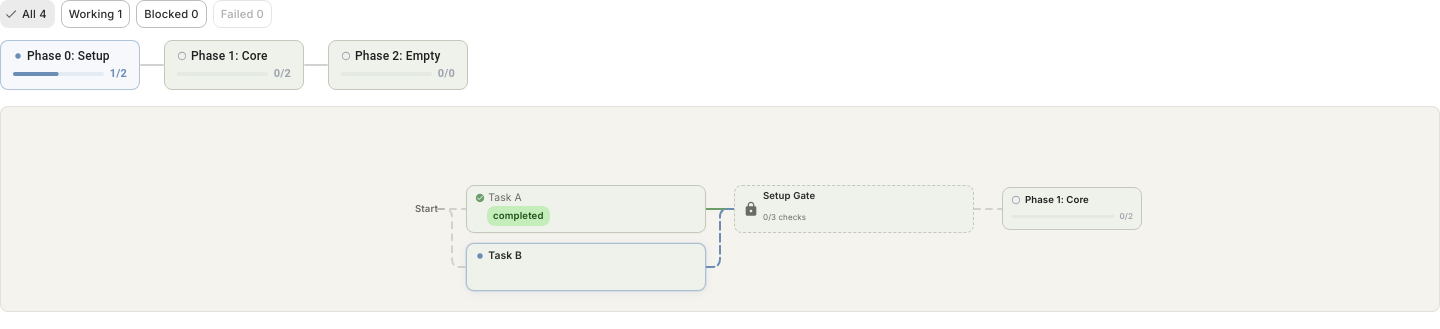
Test case: Pipeline: empty phases › shows "No tasks defined yet" for empty phases when expanded
What coordinates should you click on to do the following:
click the button with test id "phase-card" showing "Phase 2: Empty 0/0"
I would click on:
 (398, 65)
Its box is [328,40,468,90].
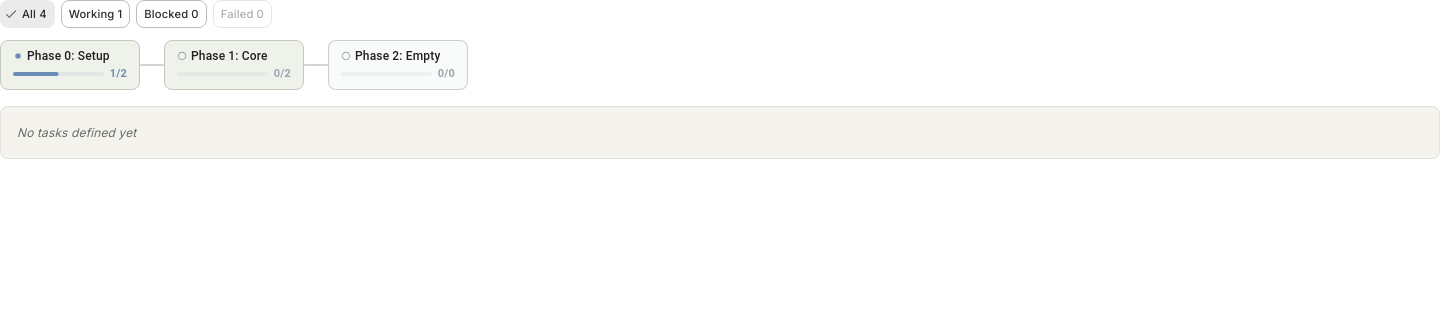
Now the text "No tasks defined yet" is shown, box [17,125,136,140]
